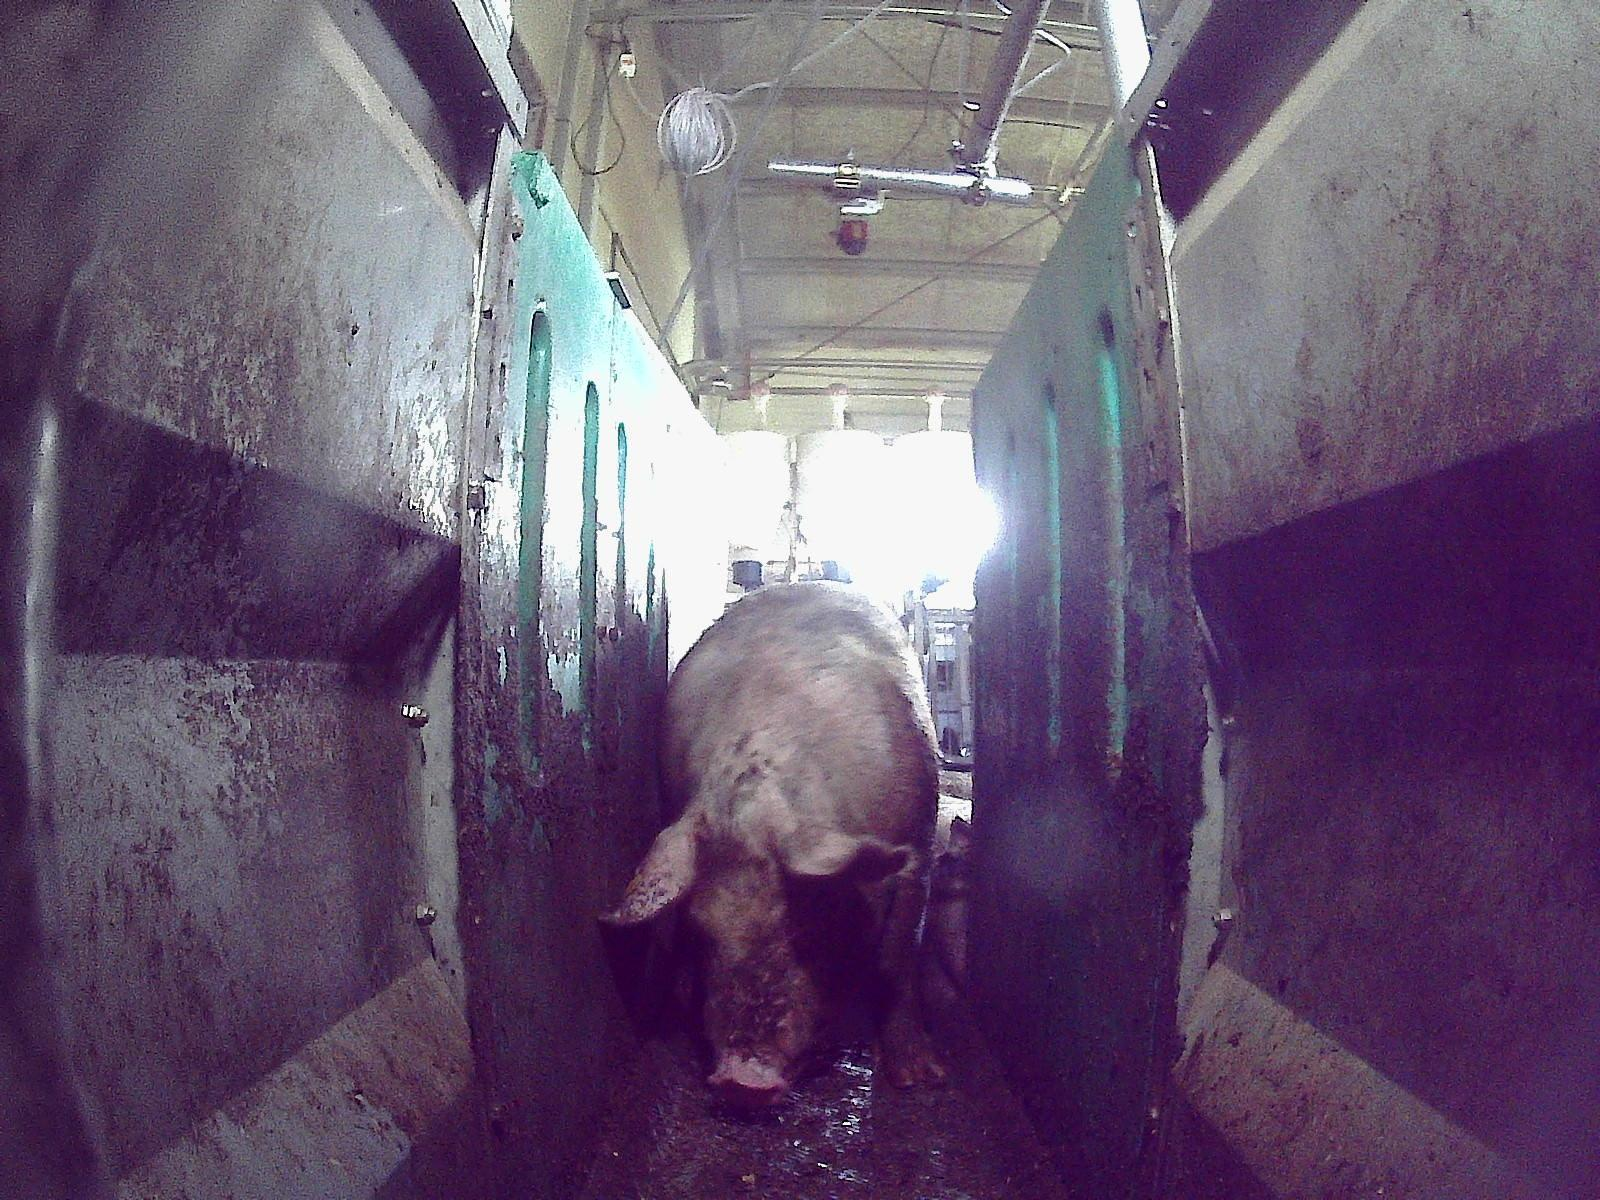Face: (665, 812, 855, 1106)
